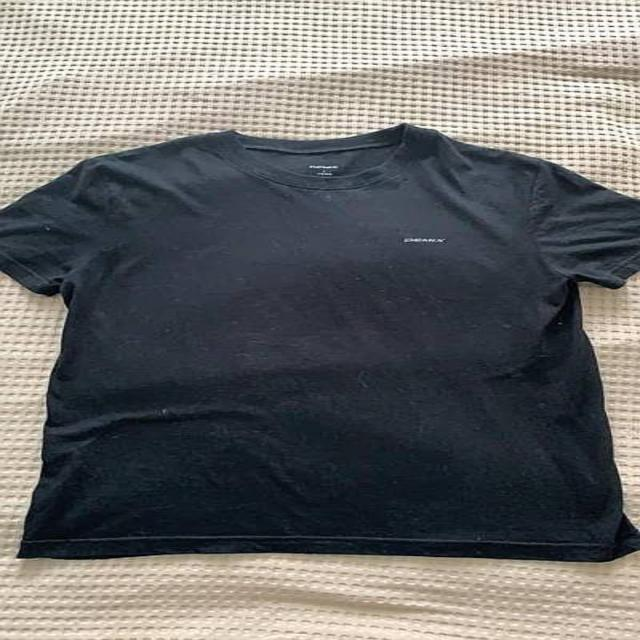T_SHIRT: (0, 116, 640, 574)
